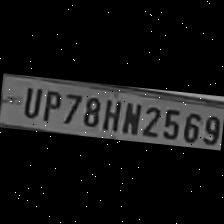2: (140, 102, 162, 138)
5: (159, 105, 181, 141)
6: (179, 108, 201, 144)
7: (59, 90, 81, 126)
8: (79, 94, 103, 130)
9: (199, 112, 222, 147)
H: (99, 96, 123, 132)
N: (118, 99, 141, 136)
P: (38, 87, 63, 124)
U: (18, 84, 42, 120)
